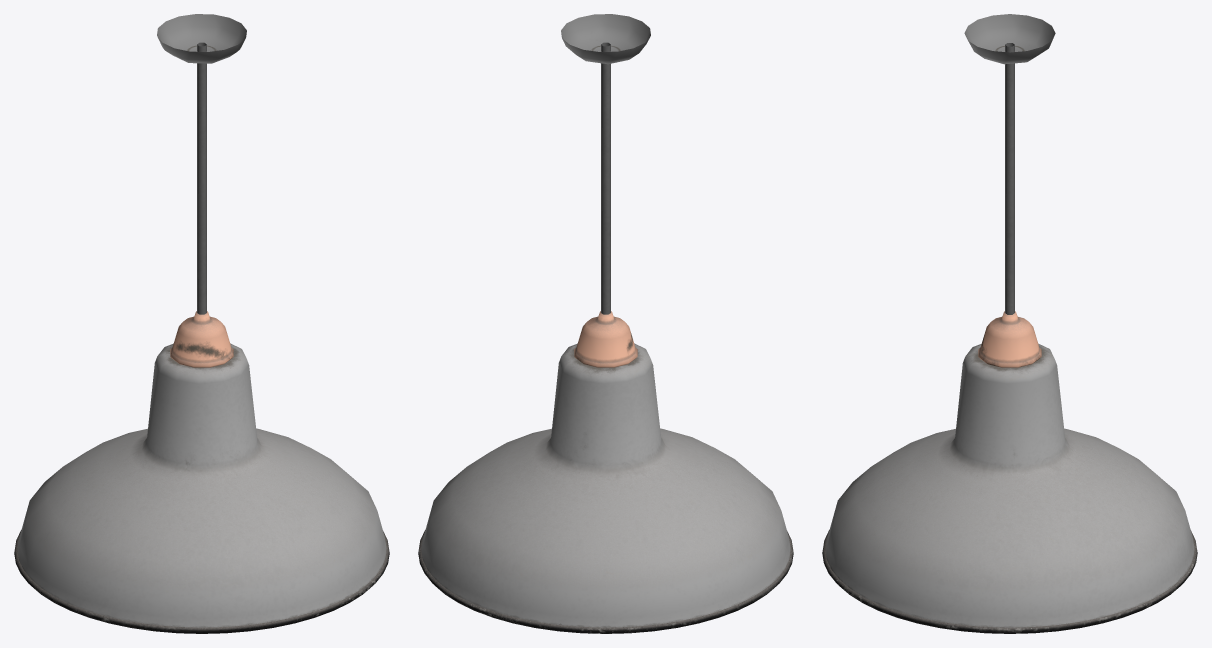
The picture shows the model from 3 angles, left to right: view 1: azimuth 30°, elevation 25°; view 2: azimuth 150°, elevation 25°; view 3: azimuth 270°, elevation 25°; orthographic projection.
Visible parts, largest first — view 1: Lamp_Kitchen_A_1; view 2: Lamp_Kitchen_A_1; view 3: Lamp_Kitchen_A_1.
Boxes of the visible parts, left/top/right/bottom form: Lamp_Kitchen_A_1: left=14, top=14, right=389, bottom=633; Lamp_Kitchen_A_1: left=418, top=14, right=793, bottom=633; Lamp_Kitchen_A_1: left=822, top=14, right=1197, bottom=633.
Size of the model in its own units: 0.6578 by 1.01 by 0.6578.
1 material, 1 textured.
